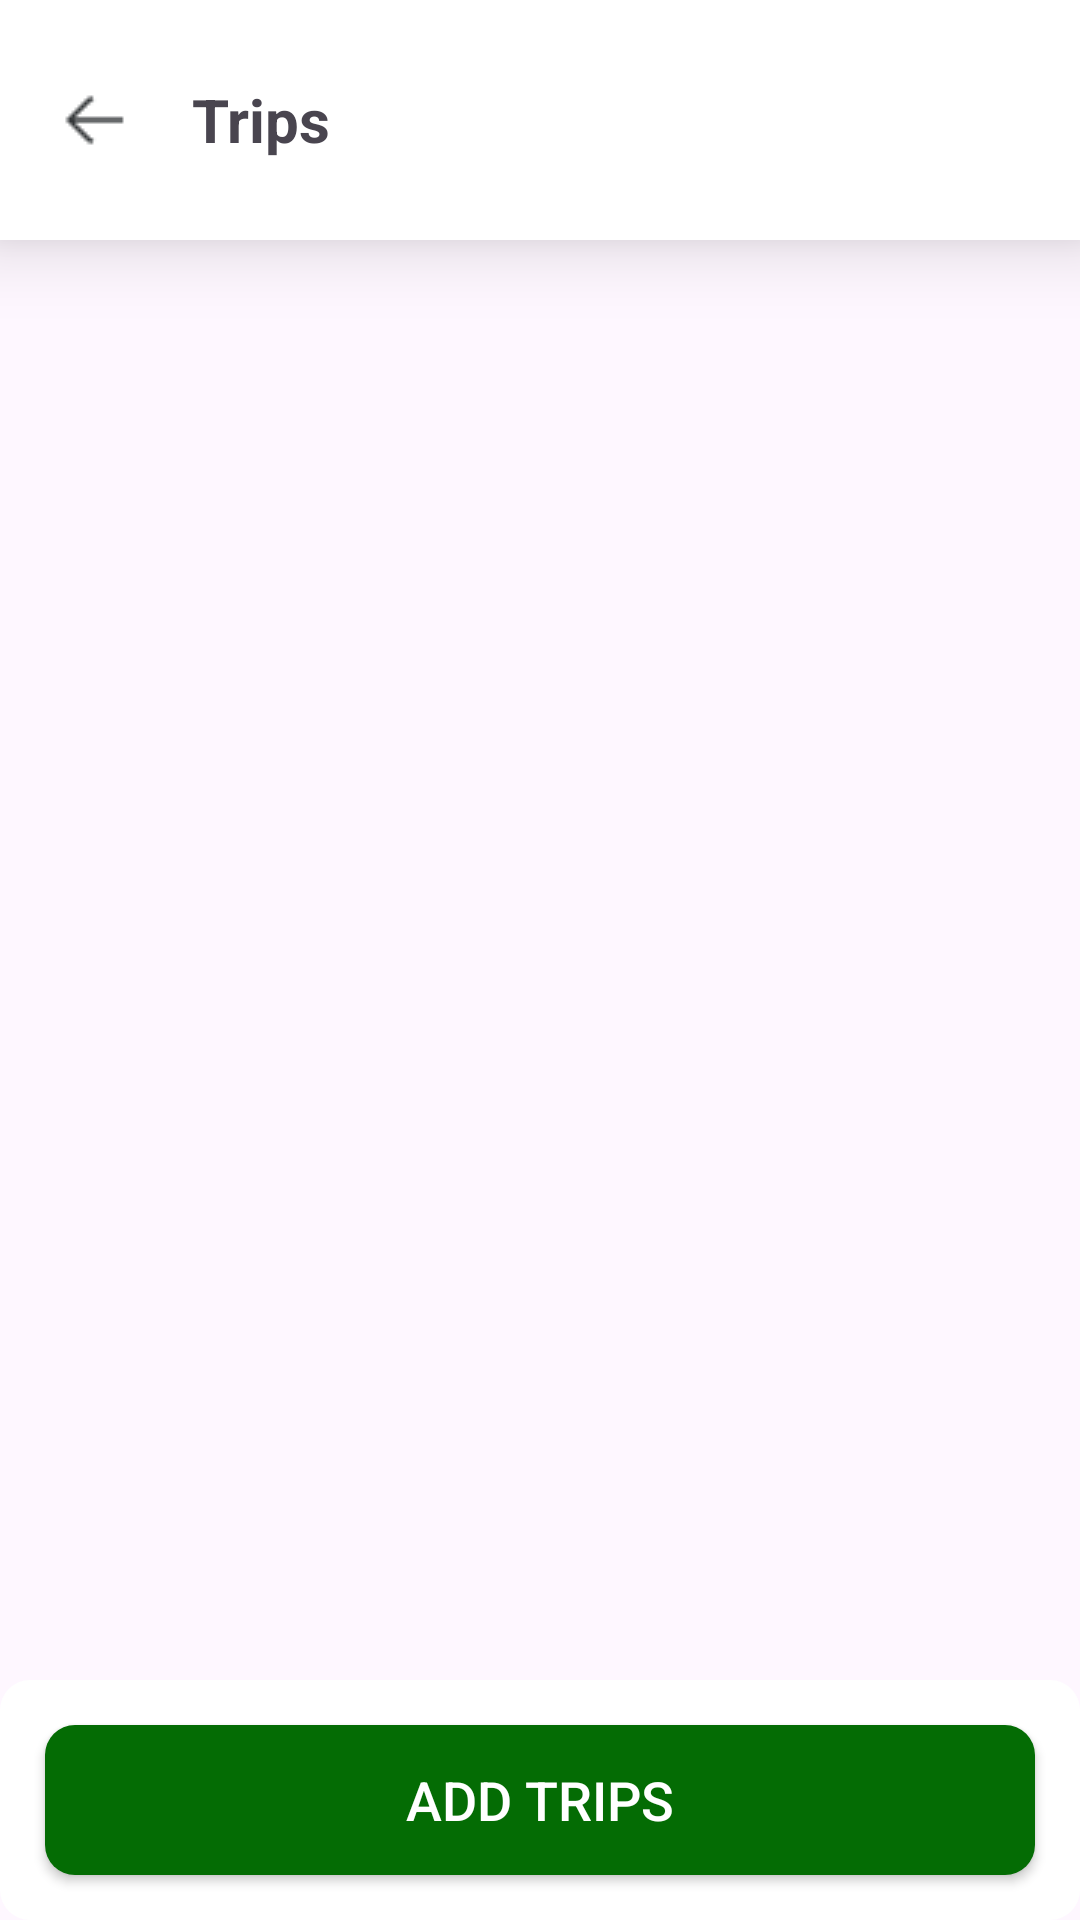

Screen size 1080x1920. Icon name, then its box in pixels as (x1, y1, x2, y2):
arrow left: (65, 95, 124, 145)
